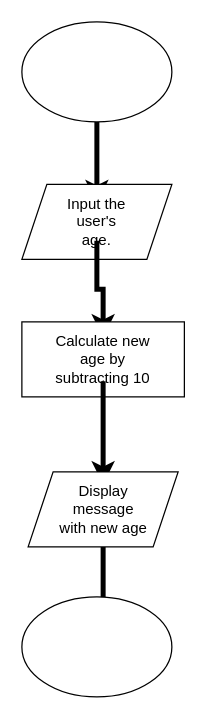
Image size: 206x719. Some labels were removed from this diagram. Each missing label, with the centre of its shape:
End: the point at 96,646
Start: the point at 96,71
